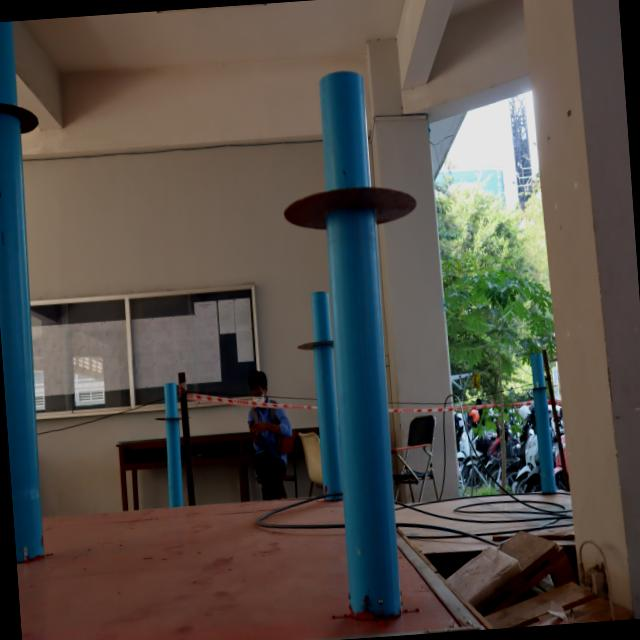pole: (278, 61, 424, 266), (152, 373, 196, 447), (519, 346, 555, 416)
